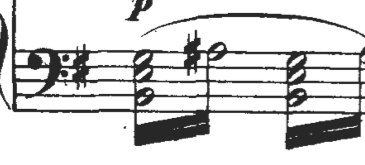bass_clef: (22, 40, 71, 102)
sharp: (69, 45, 93, 91)
